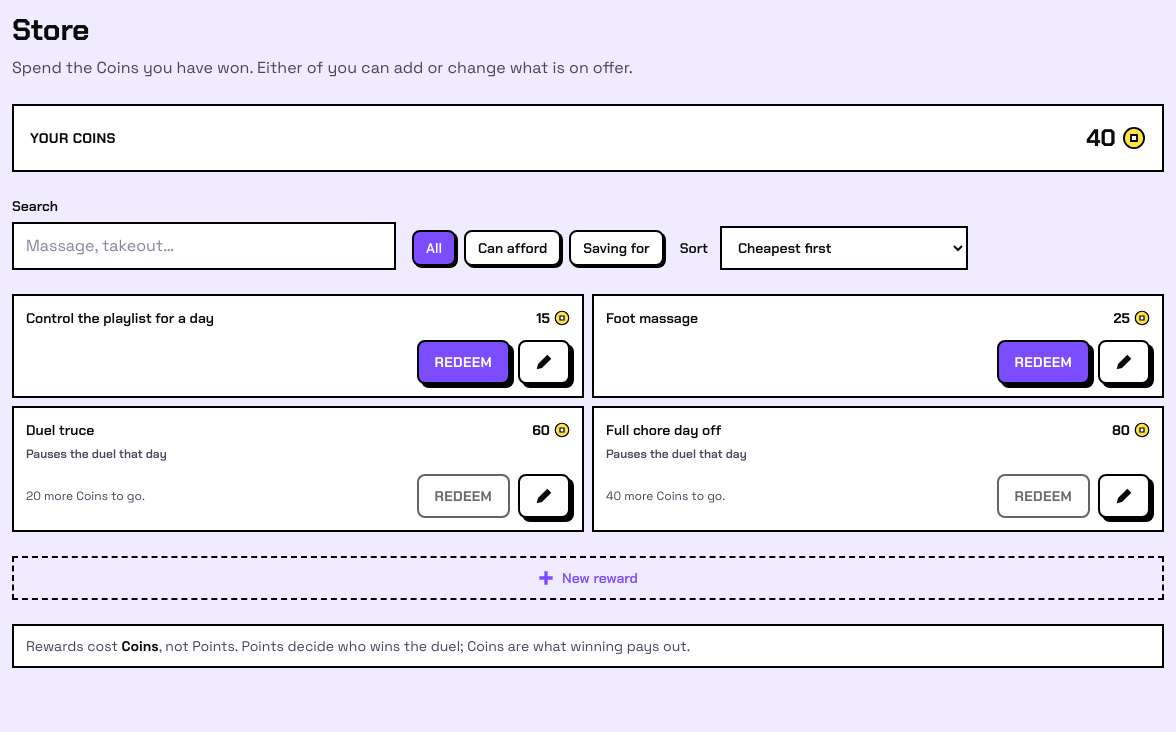
Test case: redeeming › can be backed out of
Check: the heading "Foot massage" is shown, box [606,308,698,328]
Click the button "Redeem" below "25": point(1043, 362) [997,340,1090,384]
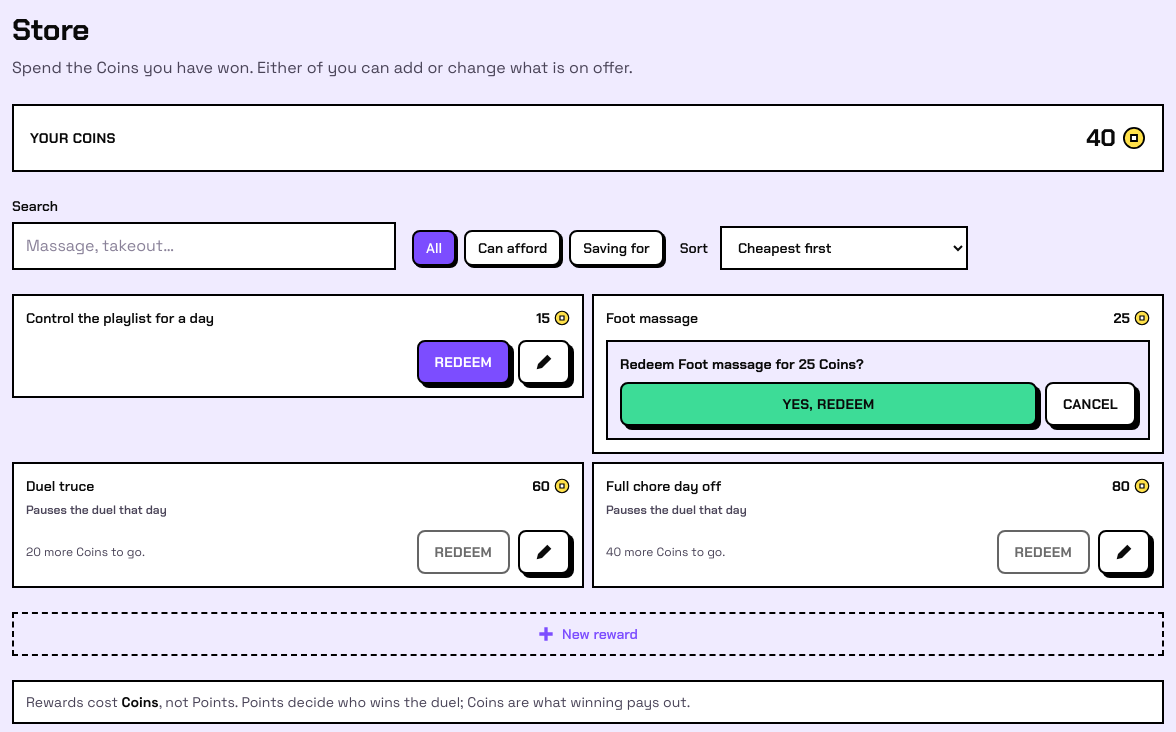
Click the button "Cancel": point(1090, 404) [1045,382,1136,426]
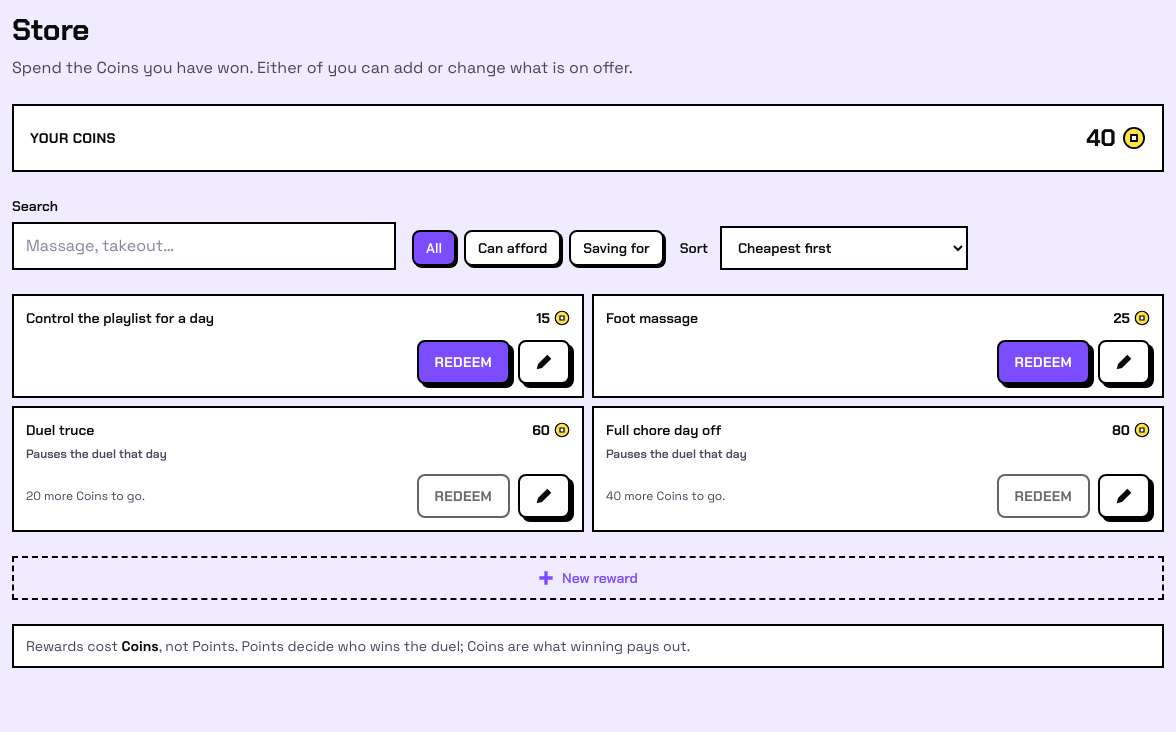
Check: the text "Redeem Foot massage for 25 Coins?" is gone
